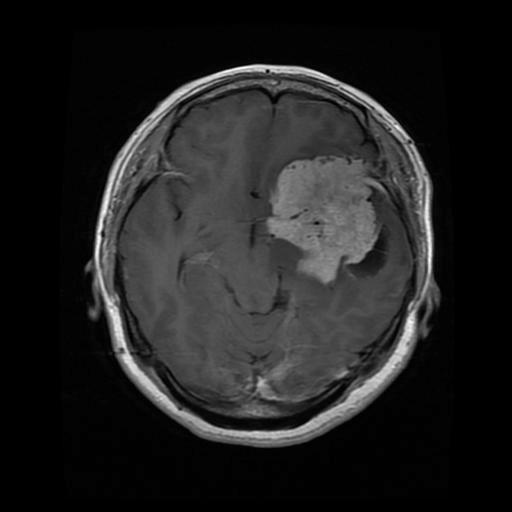Tumour-Meningioma: (247, 146, 396, 309)
